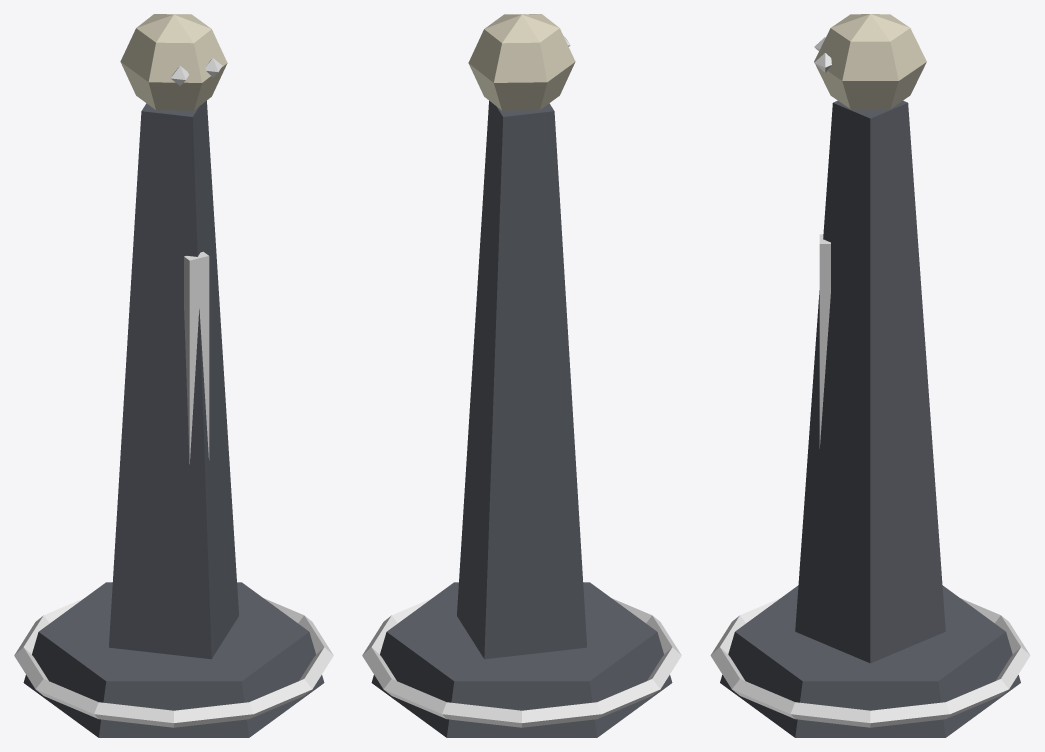
The model's file is hive_node.fbx.
3 views of the same model, side by side, from view 1: azimuth 30°, elevation 25°; view 2: azimuth 150°, elevation 25°; view 3: azimuth 270°, elevation 25° (orthographic).
Parts seen in each view (by area): view 1: hive_node; view 2: hive_node; view 3: hive_node.
Part boxes in pixels (x1,y1,x2,y2): hive_node: (14, 14, 333, 737); hive_node: (362, 14, 681, 737); hive_node: (710, 14, 1030, 737).
Size of the model in its own units: 0.85 by 1.96 by 0.85.
Materials: 2 (1 with a texture image).
